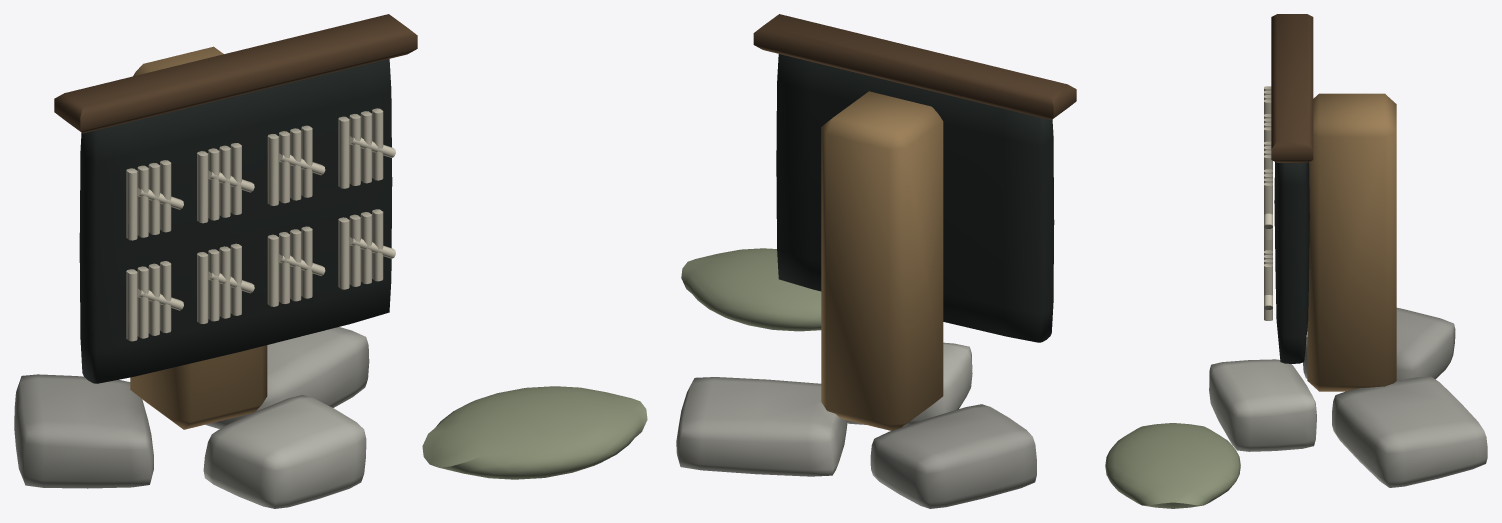
Rendered from tally_post_a.glb.
3 renders of one model, left to right at view 1: azimuth 30°, elevation 25°; view 2: azimuth 150°, elevation 25°; view 3: azimuth 270°, elevation 25°, orthographic. The views are drawn at different scales.
Parts seen in each view (by area): view 1: Surface; view 2: Surface; view 3: Surface.
Part boxes in pixels (x1,y1,x2,y2): Surface: (14,14,647,508); Surface: (676,14,1076,508); Surface: (1105,14,1487,508).
Bounding box in the file's own units: 1.57 × 1.27 × 1.28.
